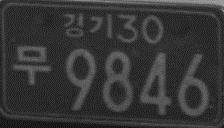0: (140, 14, 163, 45)
3: (116, 13, 138, 43)
4: (137, 52, 171, 114)
6: (176, 53, 209, 118)
8: (100, 49, 135, 113)
9: (63, 47, 97, 110)
경기_O: (62, 12, 114, 40)
무: (11, 43, 51, 85)
